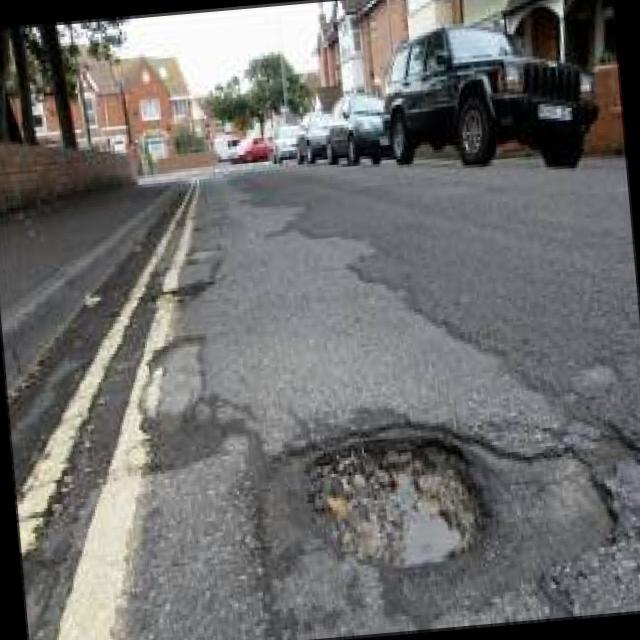Pothole: (266, 418, 502, 592)
